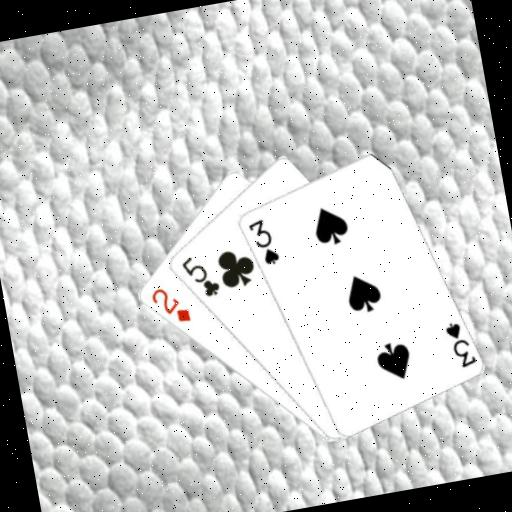2D: (146, 280, 193, 329)
3S: (243, 213, 281, 268), (440, 316, 477, 371)
5C: (176, 249, 223, 302)
